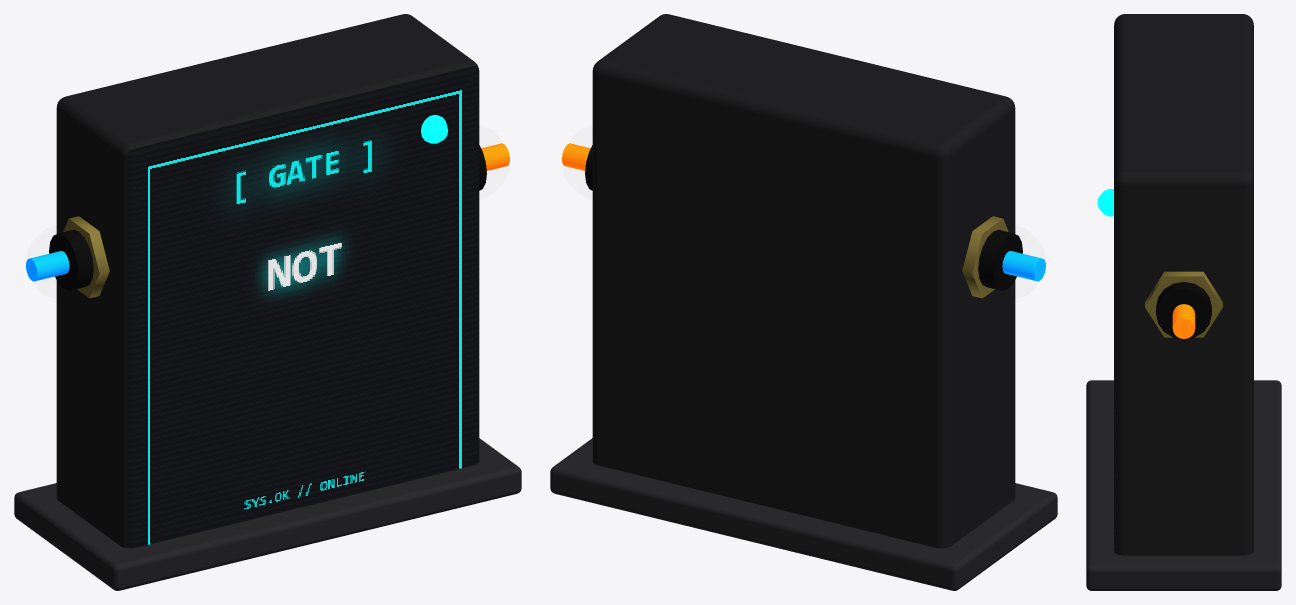
Rendered from gate_not.glb.
The picture shows the model from 3 angles, left to right: view 1: azimuth 30°, elevation 25°; view 2: azimuth 150°, elevation 25°; view 3: azimuth 270°, elevation 25°; orthographic projection. The views are drawn at different scales.
Visible parts, largest first — view 1: chassis, bracket, socket, hex_nut, pin; view 2: chassis, bracket, socket, hex_nut, pin; view 3: chassis, bracket, socket, hex_nut, pin, status_led.
Part boxes in pixels (x1,y1,x2,y2): chassis: (56,14,479,548); bracket: (14,438,521,590); socket: (49,229,93,290); hex_nut: (63,216,109,298); pin: (26,251,69,281); chassis: (592,14,1015,548); bracket: (550,438,1057,590); socket: (978,229,1022,290); hex_nut: (962,216,1008,298); pin: (1002,251,1045,281); chassis: (1114,14,1253,555); bracket: (1086,380,1281,590); socket: (1156,282,1211,339); hex_nut: (1145,271,1222,337); pin: (1172,304,1195,338); status_led: (1097,188,1113,216).
Bounding box in the file's own units: 1.86 × 1.6 × 0.7.
Materials: 10 (1 with a texture image).
